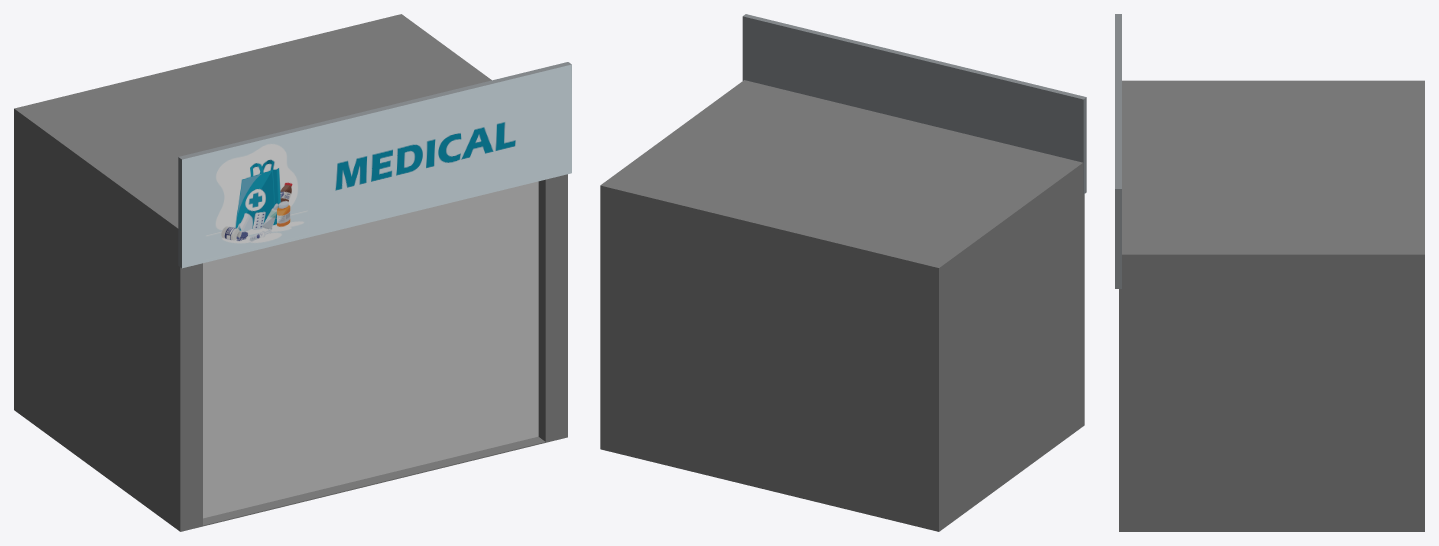
The model's file is shop 2.fbx.
3 renders of one model, left to right at view 1: azimuth 30°, elevation 25°; view 2: azimuth 150°, elevation 25°; view 3: azimuth 270°, elevation 25°, orthographic. The views are drawn at different scales.
Parts seen in each view (by area): view 1: pCube3, pPlane4, pCube13; view 2: pCube3, pCube13; view 3: pCube3, pCube13.
Boxes of the visible parts, left/top/right/bottom form: pCube3: left=14, top=14, right=567, bottom=531; pPlane4: left=203, top=181, right=538, bottom=518; pCube13: left=178, top=62, right=571, bottom=268; pCube3: left=600, top=80, right=1084, bottom=531; pCube13: left=742, top=14, right=1086, bottom=194; pCube3: left=1119, top=80, right=1424, bottom=531; pCube13: left=1115, top=14, right=1121, bottom=288.
Size of the model in its own units: 6.38 by 5.85 by 4.77.
